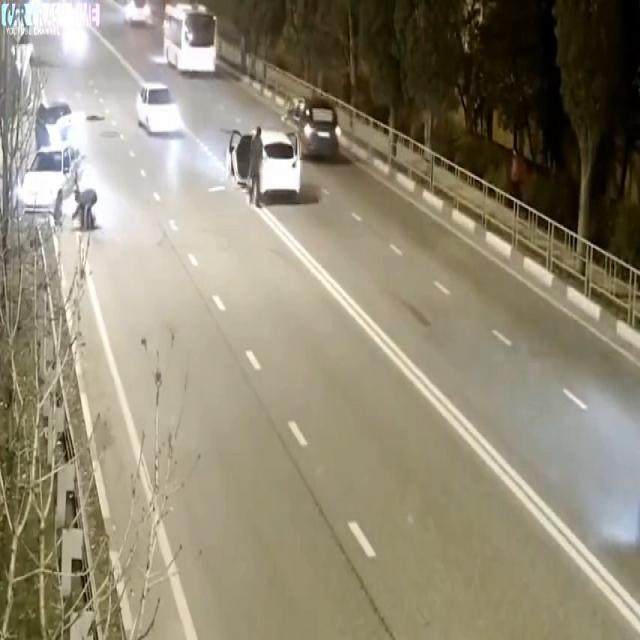Accident: (6, 73, 102, 253)
